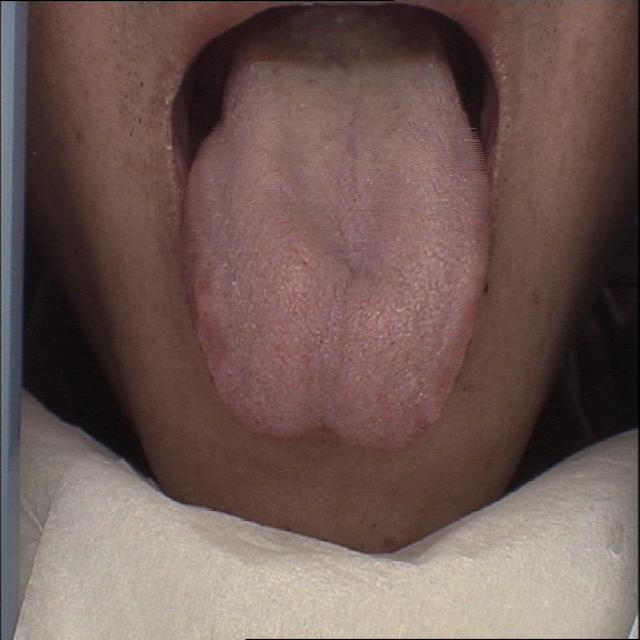tongue: (178, 50, 499, 457)
